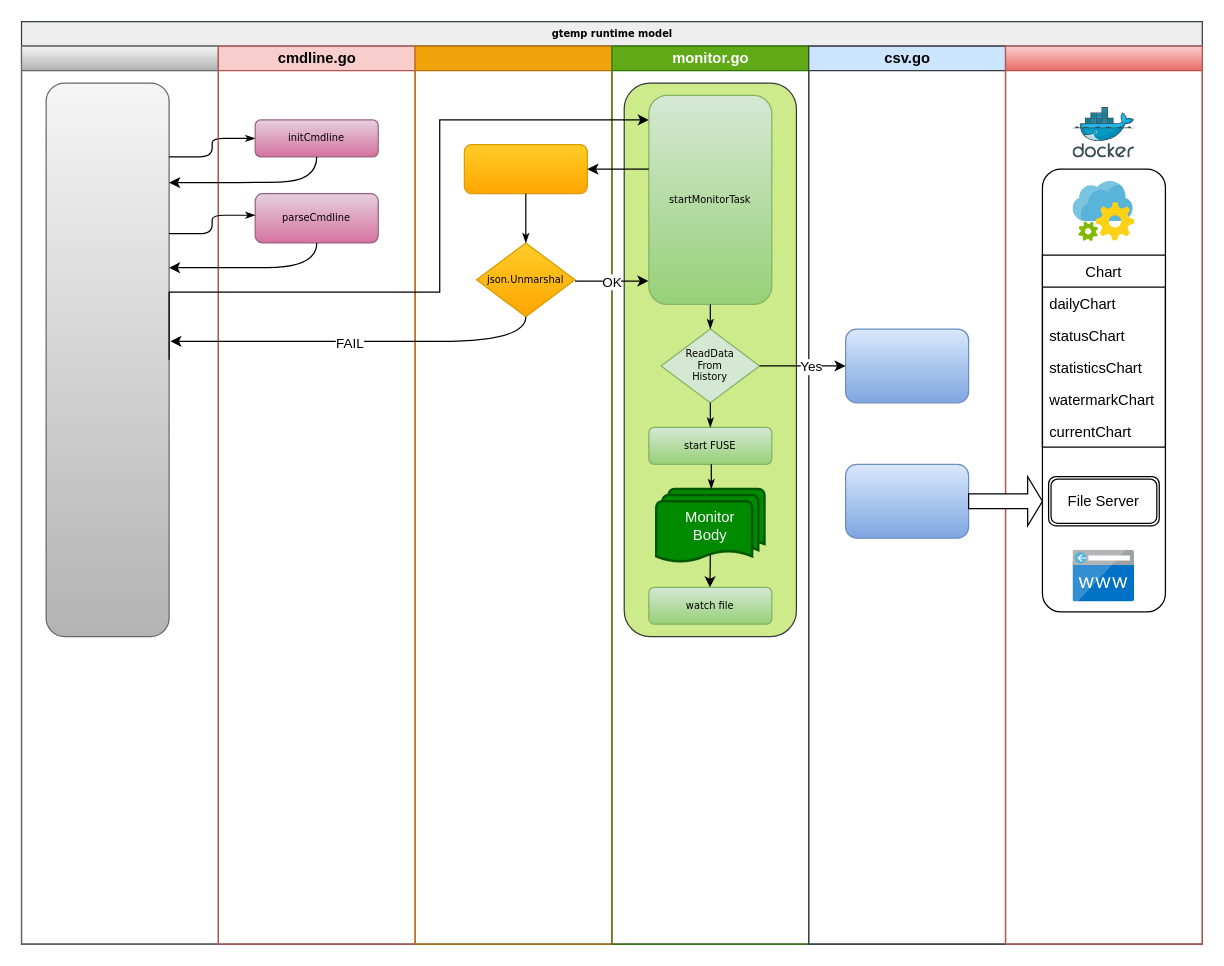
Some shapes in this 1224 by 966 pixel diagram are drawn without their labels. Here are the shapes that lost their labels. From the top down, the box of each, then its label:
(463, 143, 587, 194): ParseJsonFile
(45, 82, 169, 637): main
(844, 328, 969, 403): generate CSV
(20, 45, 218, 944): main.go
(414, 45, 612, 944): parse.go
(844, 463, 969, 538): upload CSV
(1004, 45, 1202, 944): chart.go
